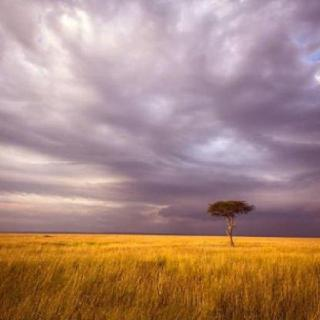Stratus: (0, 0, 320, 238)
